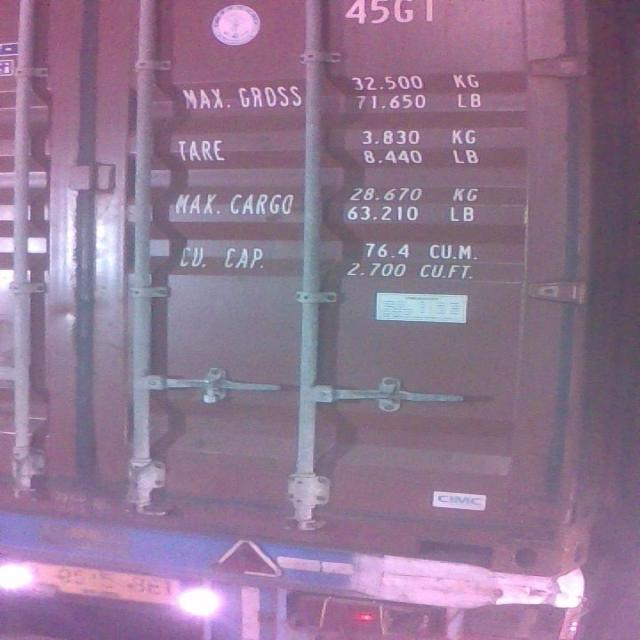seal: (200, 375, 223, 408)
